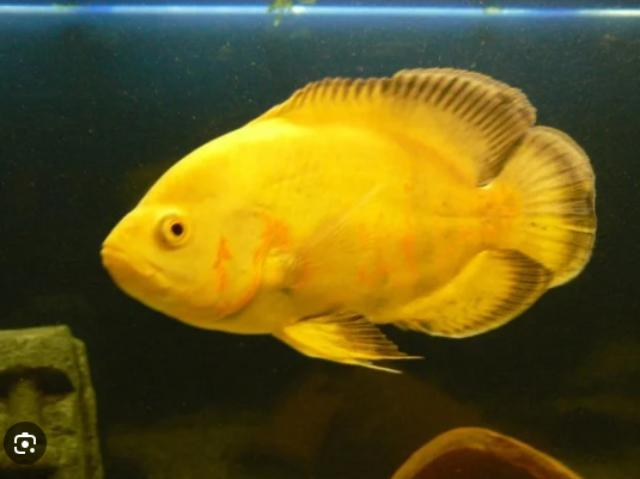Mulut: (86, 216, 182, 315)
Sirip Anal: (406, 236, 552, 348)
Sirip Dada: (260, 215, 402, 305)
Sirip Ekor: (484, 118, 604, 290)
Sirip Perut: (272, 304, 424, 382)
Sirip Punggung: (277, 45, 541, 174)
